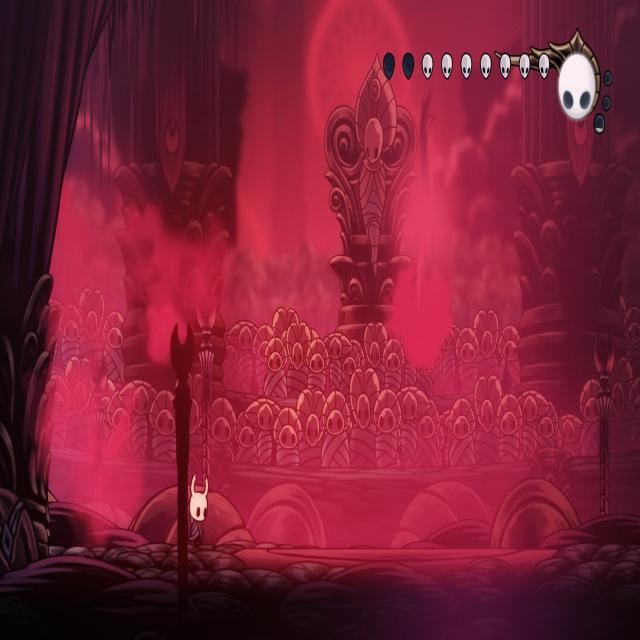Player: (185, 465, 210, 546)
